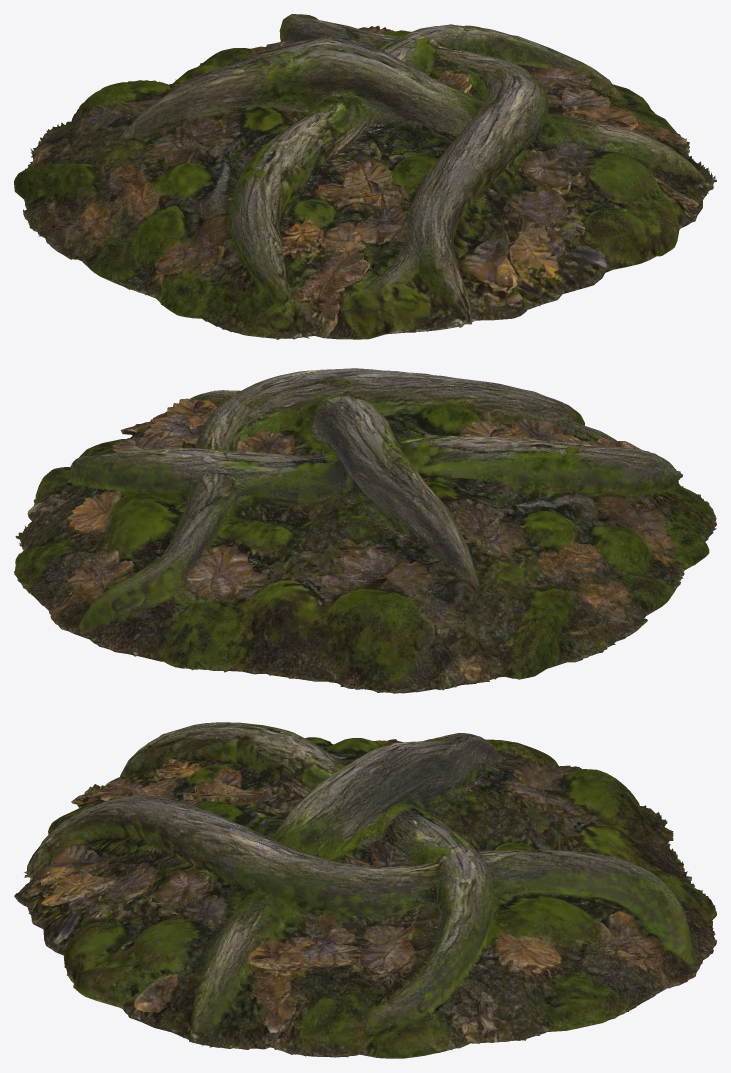
Rendered from moss-root-litter-island.glb.
3 views of the same model, one above another, from view 1: azimuth 30°, elevation 25°; view 2: azimuth 150°, elevation 25°; view 3: azimuth 270°, elevation 25° (orthographic). The views are drawn at different scales.
Parts seen in each view (by area): view 1: Mesh_0; view 2: Mesh_0; view 3: Mesh_0.
Boxes of the visible parts, left/top/right/bottom form: Mesh_0: left=14, top=14, right=716, bottom=339; Mesh_0: left=14, top=368, right=716, bottom=693; Mesh_0: left=14, top=722, right=716, bottom=1058.
Size of the model in its own units: 0.5079 by 0.12 by 0.5012.
Materials: 1 (1 with a texture image).
